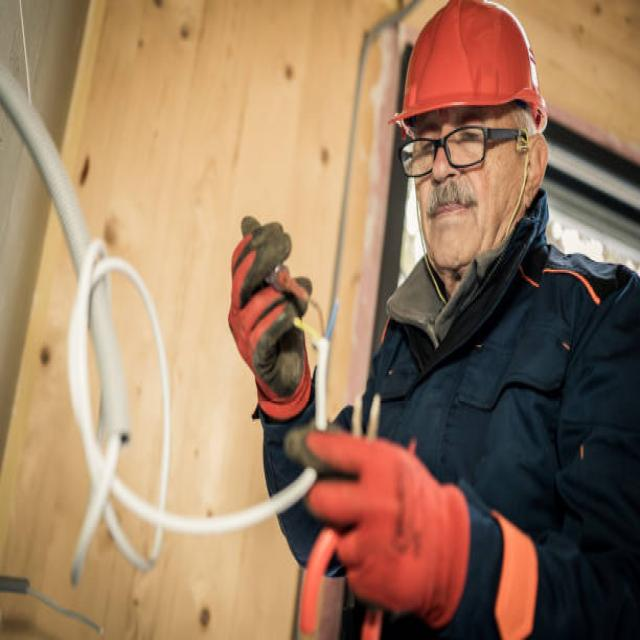Gloves: (280, 418, 475, 632), (225, 203, 318, 424)
helmet: (386, 0, 549, 130)
person: (228, 0, 640, 640)
